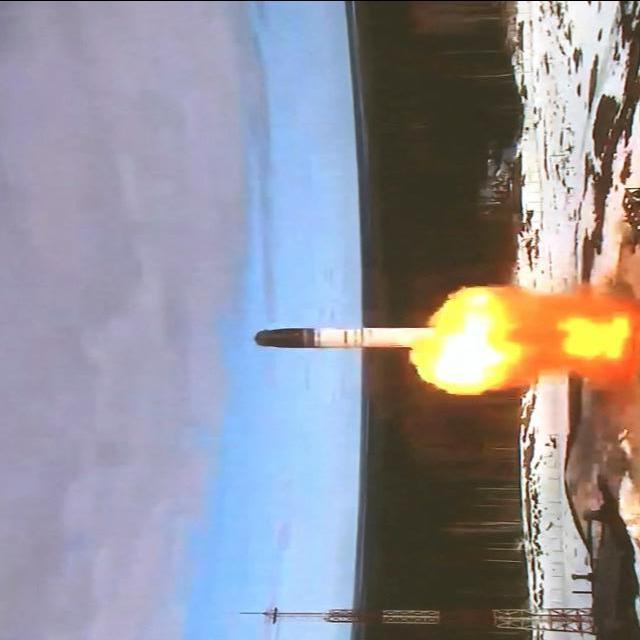missile: (253, 324, 439, 351)
